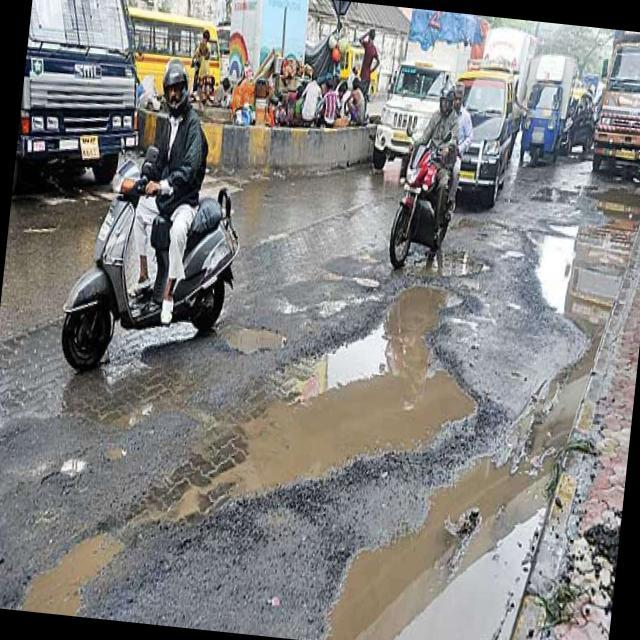Pothole: (0, 230, 501, 640), (325, 136, 640, 640), (212, 306, 294, 360), (339, 256, 393, 296)
